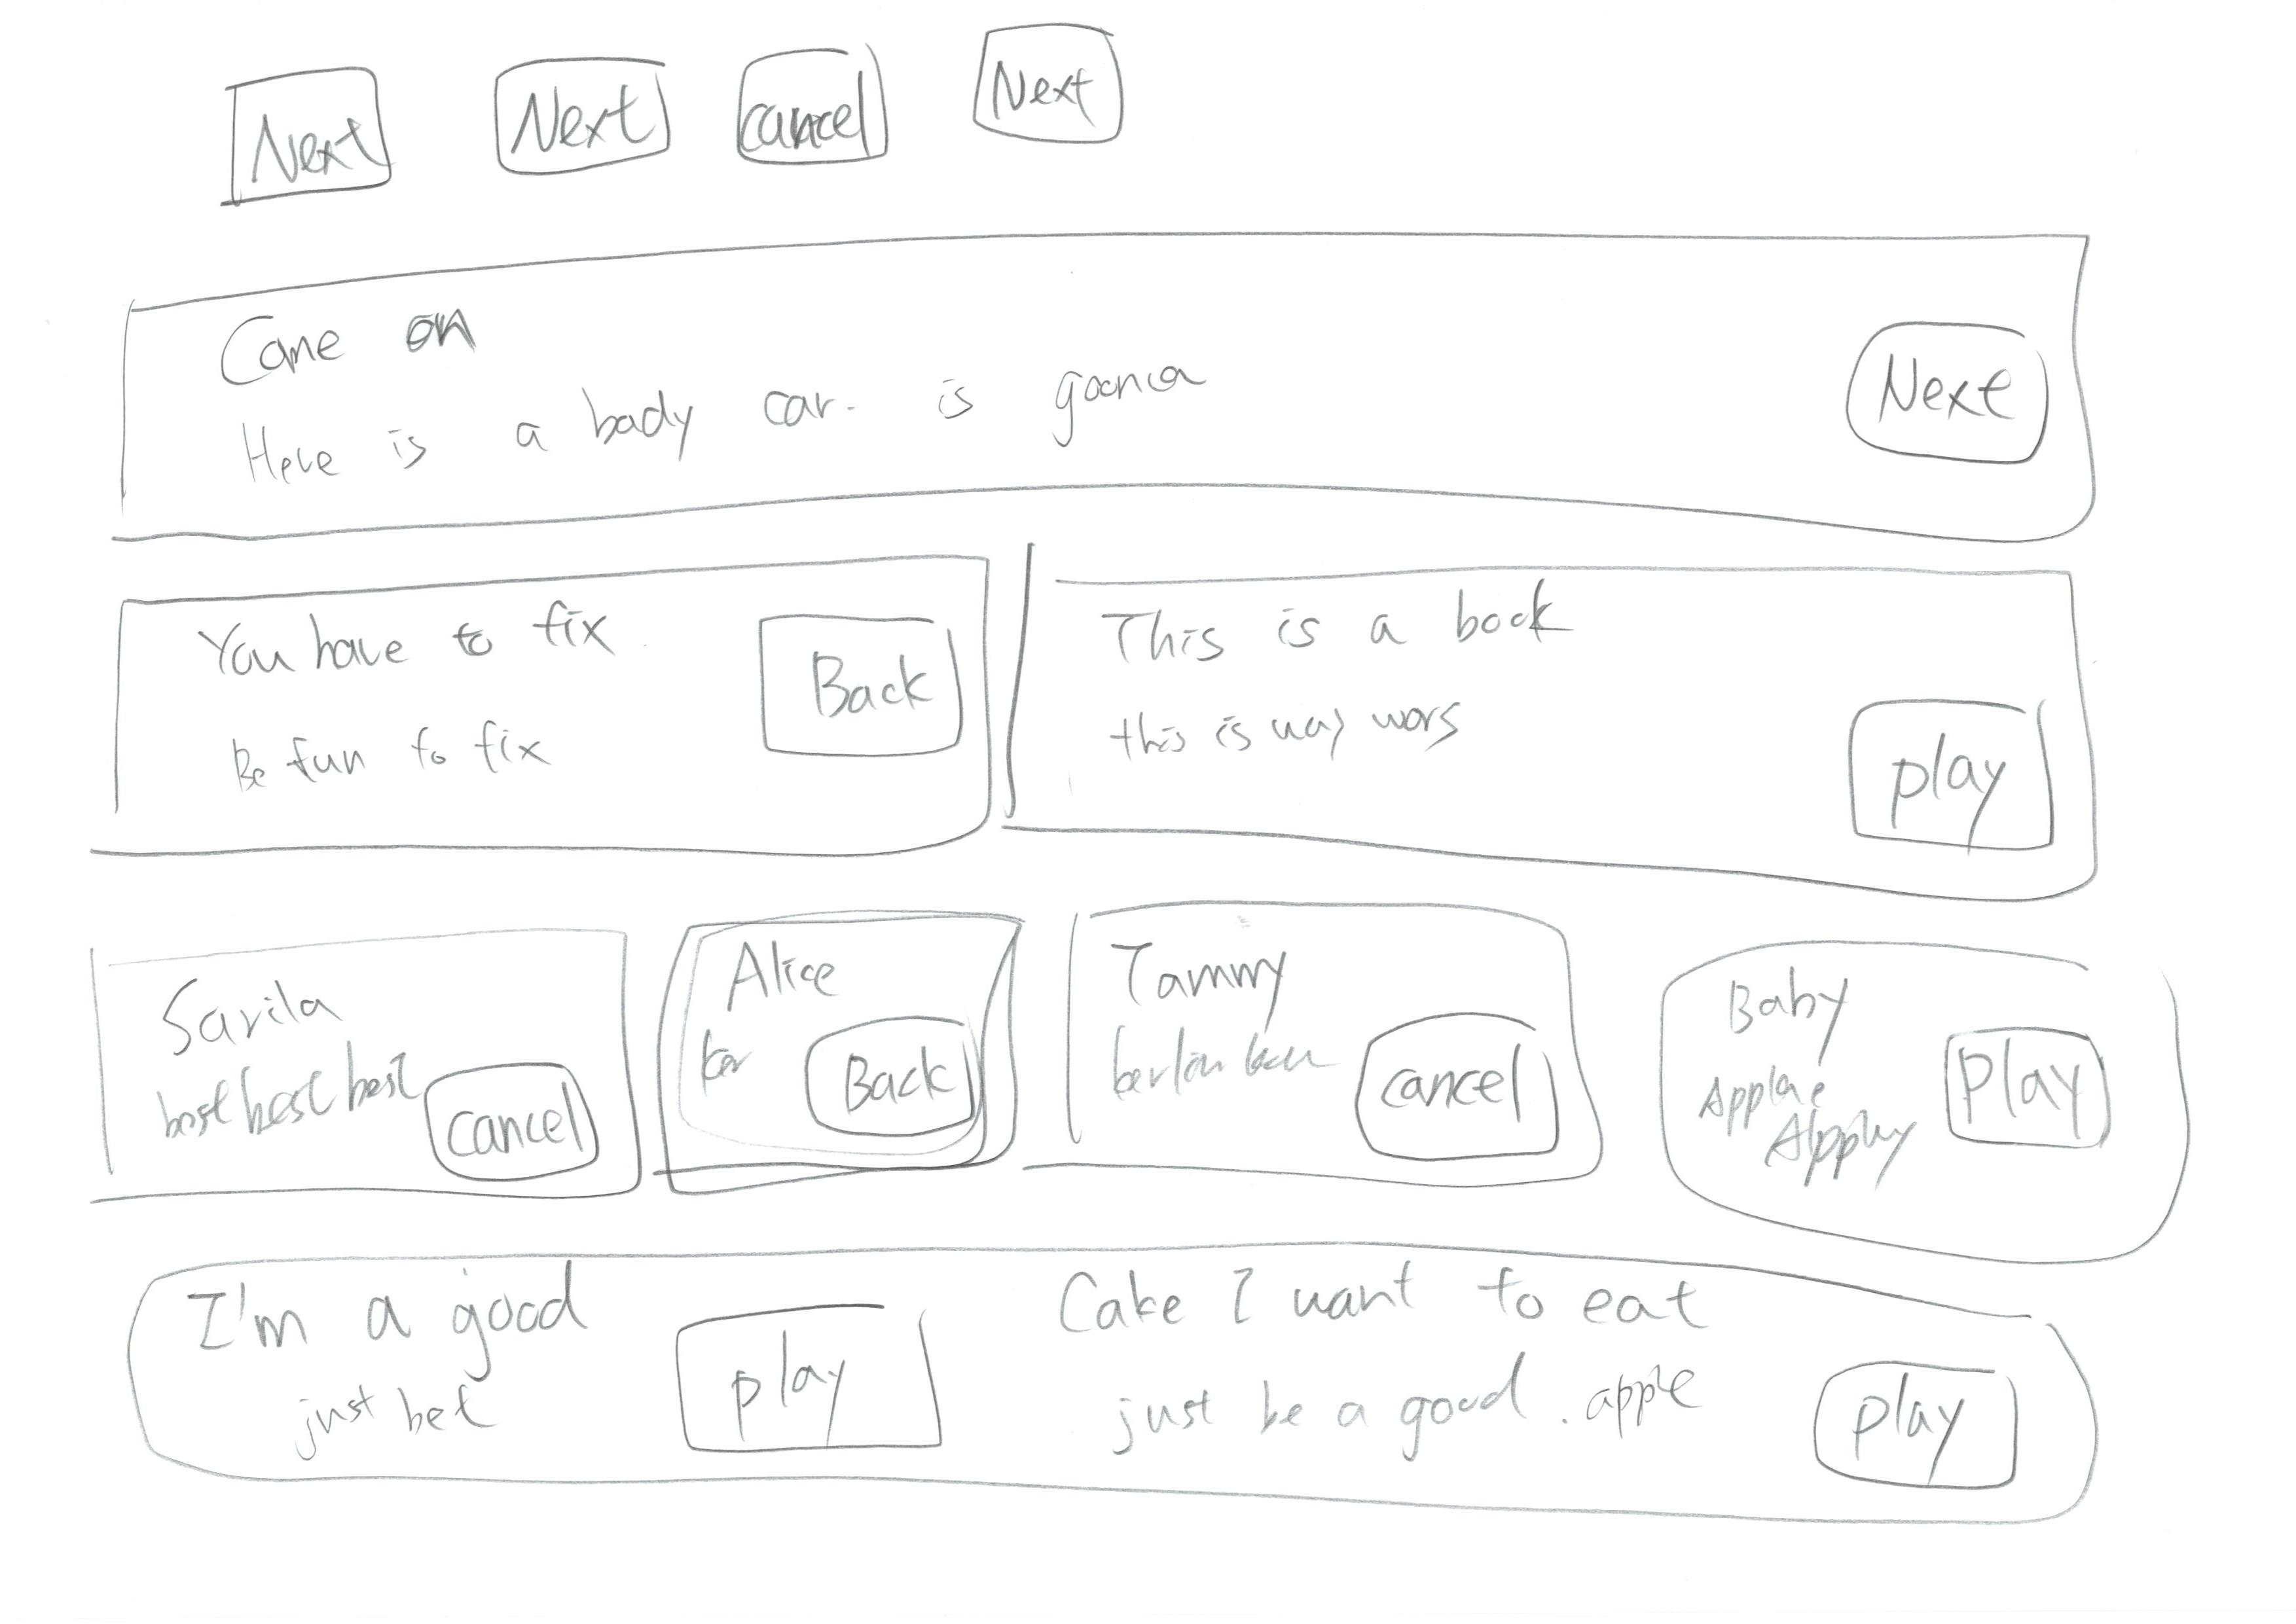back: (721, 585, 985, 777)
cancel: (1329, 986, 1584, 1167), (687, 12, 923, 206), (396, 1026, 610, 1207)
double: (1023, 510, 2164, 933), (32, 501, 1021, 900)
next: (1814, 292, 2073, 466), (935, 4, 1166, 190), (188, 40, 417, 223), (459, 39, 687, 193)
play: (643, 1278, 990, 1469), (1820, 668, 2067, 872), (1777, 1346, 2071, 1517), (1923, 1005, 2133, 1172)
quadruple: (1021, 859, 1631, 1223), (1624, 916, 2234, 1280), (70, 888, 670, 1251), (636, 891, 1055, 1237)
row: (60, 446, 2296, 939), (60, 858, 2296, 1301), (60, 1204, 2296, 1587), (49, 213, 2285, 594), (42, 4, 2273, 236)
single: (60, 207, 2196, 575), (97, 1200, 2238, 1564)
small-title: (1048, 1244, 1753, 1350), (1078, 568, 1598, 664), (183, 594, 629, 689), (167, 1287, 603, 1350), (148, 967, 367, 1060), (1712, 944, 1900, 1051), (1083, 944, 1303, 1032), (202, 320, 501, 364), (694, 942, 846, 1007)
text: (218, 366, 1238, 464), (1090, 671, 1540, 800), (1104, 1366, 1733, 1457), (1700, 1055, 1937, 1202), (211, 712, 596, 800), (1079, 1023, 1319, 1142), (283, 1359, 559, 1457), (169, 1056, 422, 1160), (682, 1032, 782, 1121)
